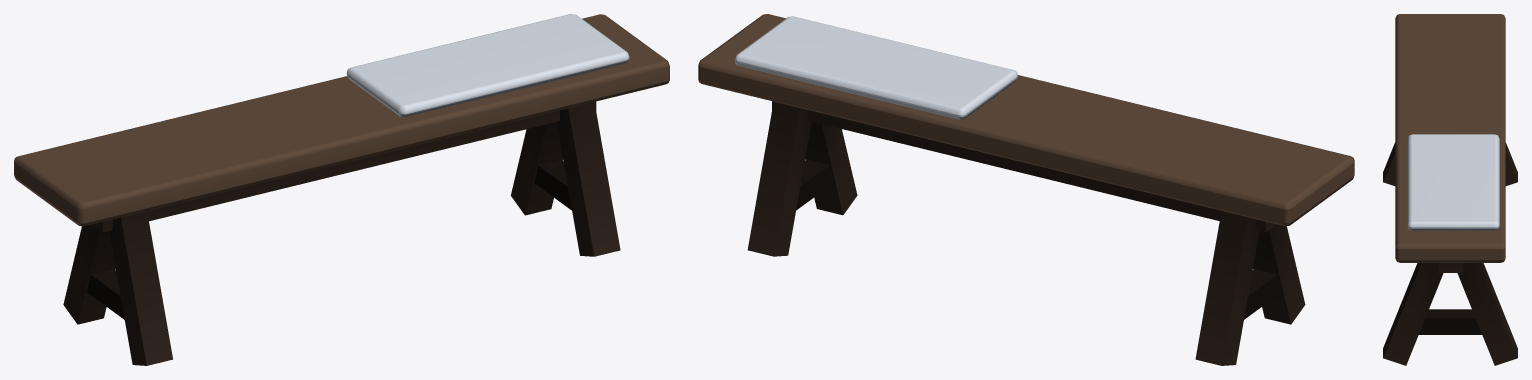
The model's file is bench.glb.
3 renders of one model, left to right at view 1: azimuth 30°, elevation 25°; view 2: azimuth 150°, elevation 25°; view 3: azimuth 270°, elevation 25°, orthographic. The views are drawn at different scales.
Visible parts, largest first — view 1: Bench; view 2: Bench; view 3: Bench.
Boxes of the visible parts, x1,y1,x2,y2 form: Bench: (14, 14, 669, 365); Bench: (698, 14, 1354, 365); Bench: (1383, 14, 1517, 365).
Bounding box in the file's own units: 1.8 × 0.5517 × 0.4397.
